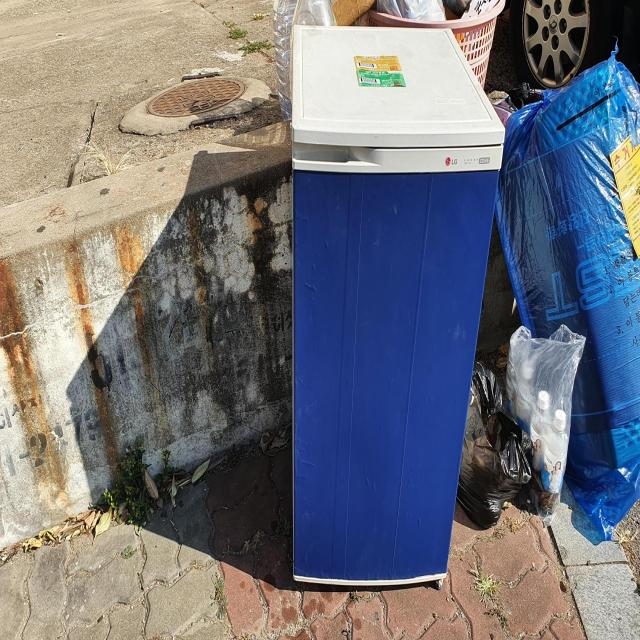refrigerator: (287, 16, 510, 593)
